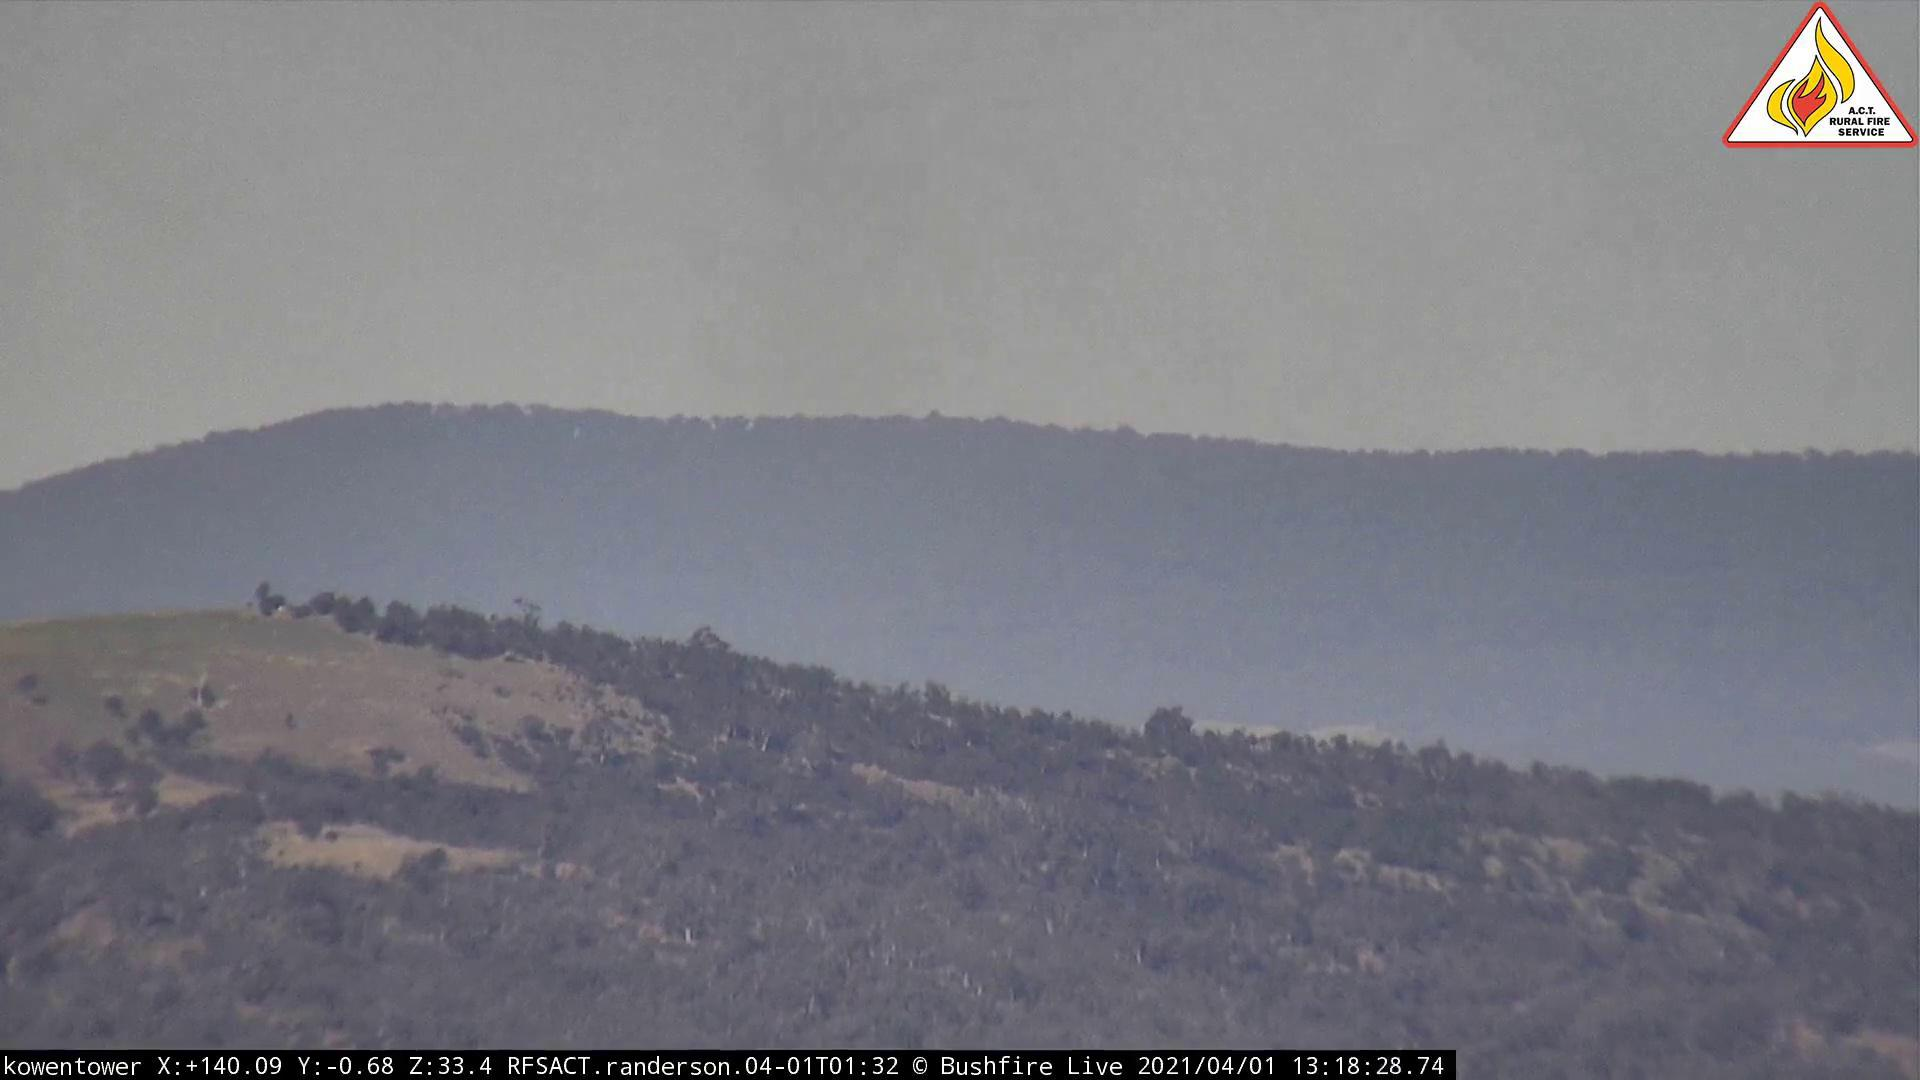Smoke: (542, 17, 1122, 506)
